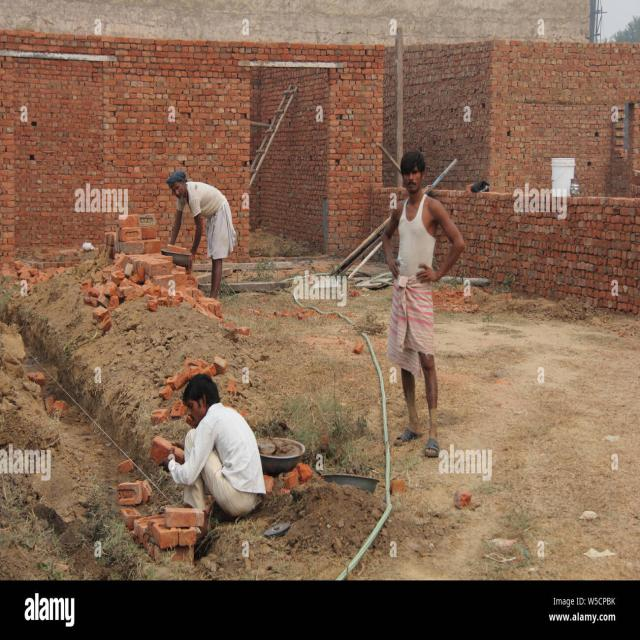Masonary: (4, 22, 633, 524)
